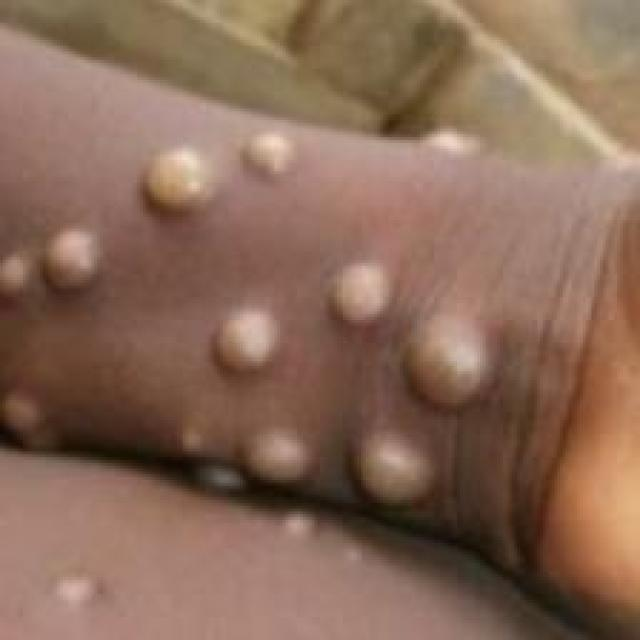monkeypox: (0, 97, 557, 640)
